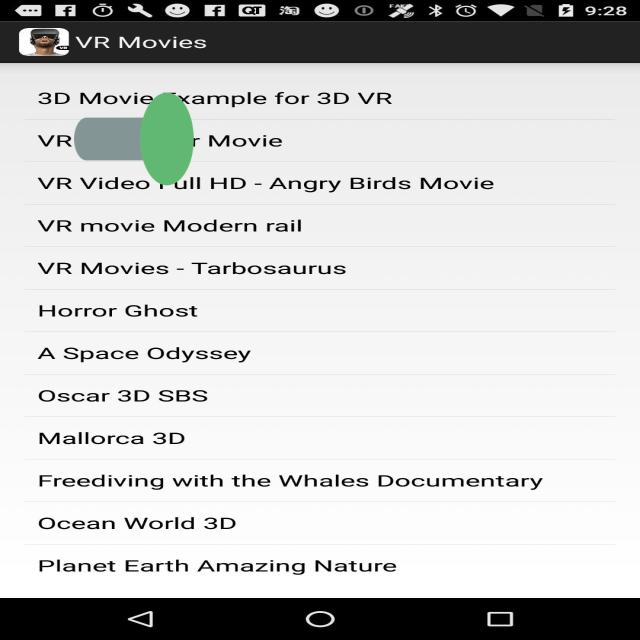social proof: (74, 36, 194, 242)
